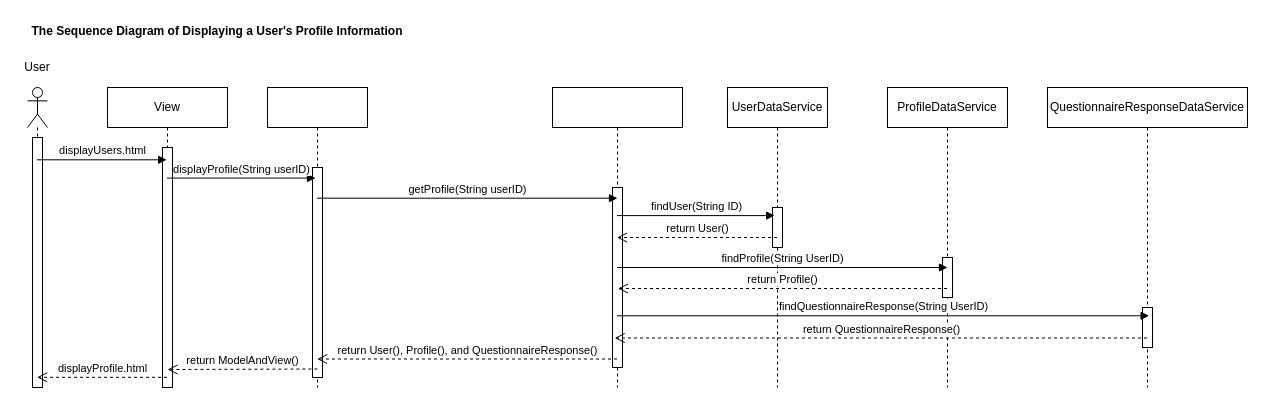
The diagram is 1265 pixels wide and 405 high, and some of its shapes have lost their labels. The box of each missing label's shape, as (x1, y1, x2, y2) in pixels:
UserBusinessService: (552, 86, 682, 388)
UserController: (266, 86, 368, 388)
